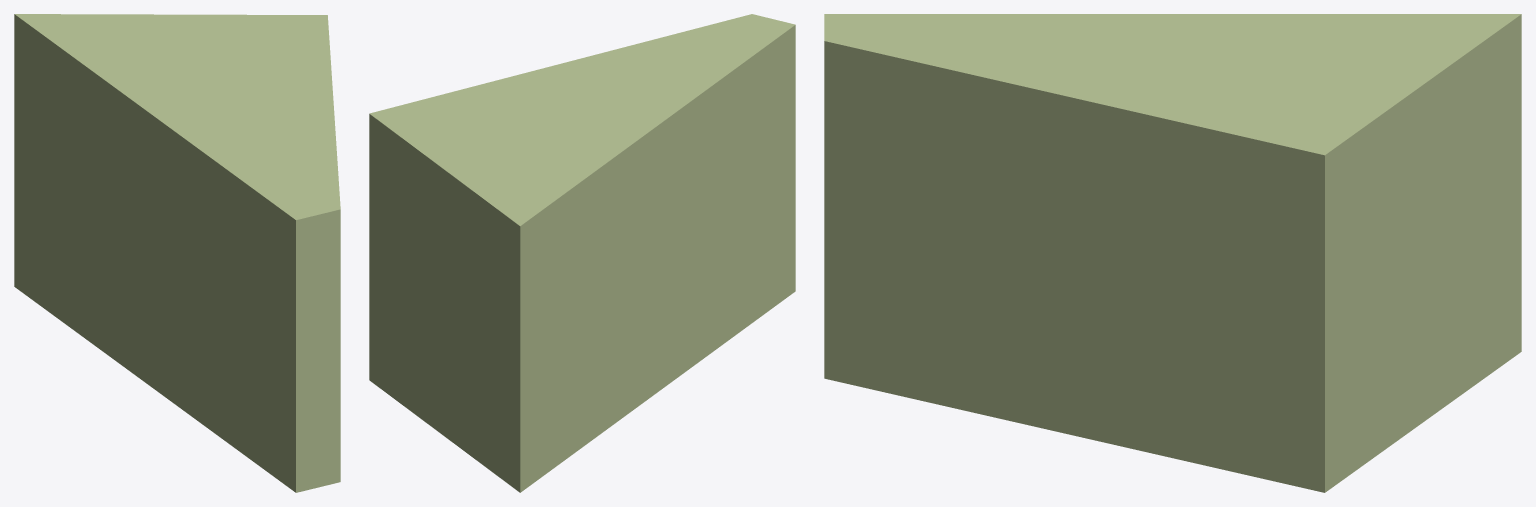
File: ground_6.gltf
3 renders of one model, left to right at view 1: azimuth 30°, elevation 25°; view 2: azimuth 150°, elevation 25°; view 3: azimuth 270°, elevation 25°, orthographic. The views are drawn at different scales.
Parts seen in each view (by area): view 1: o_ground_6; view 2: o_ground_6; view 3: o_ground_6.
Boxes of the visible parts, x1,y1,x2,y2 form: o_ground_6: (14,14,340,492); o_ground_6: (369,14,795,492); o_ground_6: (824,14,1521,492).
Bounding box in the file's own units: 2.44 × 2.71 × 5.08.
